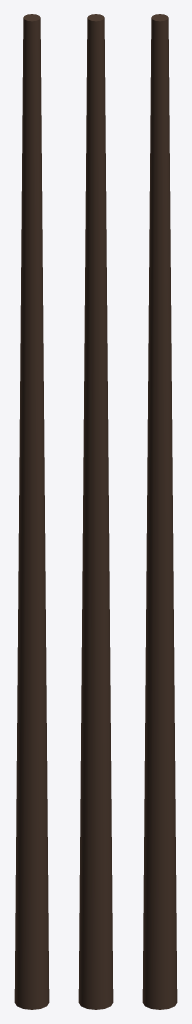
Rendered from Mast.fbx.
3 renders of one model, left to right at view 1: azimuth 90°, elevation 25°; view 2: azimuth 150°, elevation 25°; view 3: azimuth 330°, elevation 25°, orthographic.
Parts seen in each view (by area): view 1: Mast; view 2: Mast; view 3: Mast.
Boxes of the visible parts, bbox=[...] form: Mast: bbox=[14, 14, 49, 1009]; Mast: bbox=[78, 14, 113, 1009]; Mast: bbox=[142, 14, 177, 1009].
Bounding box in the file's own units: 94.51 × 2971 × 94.51.
